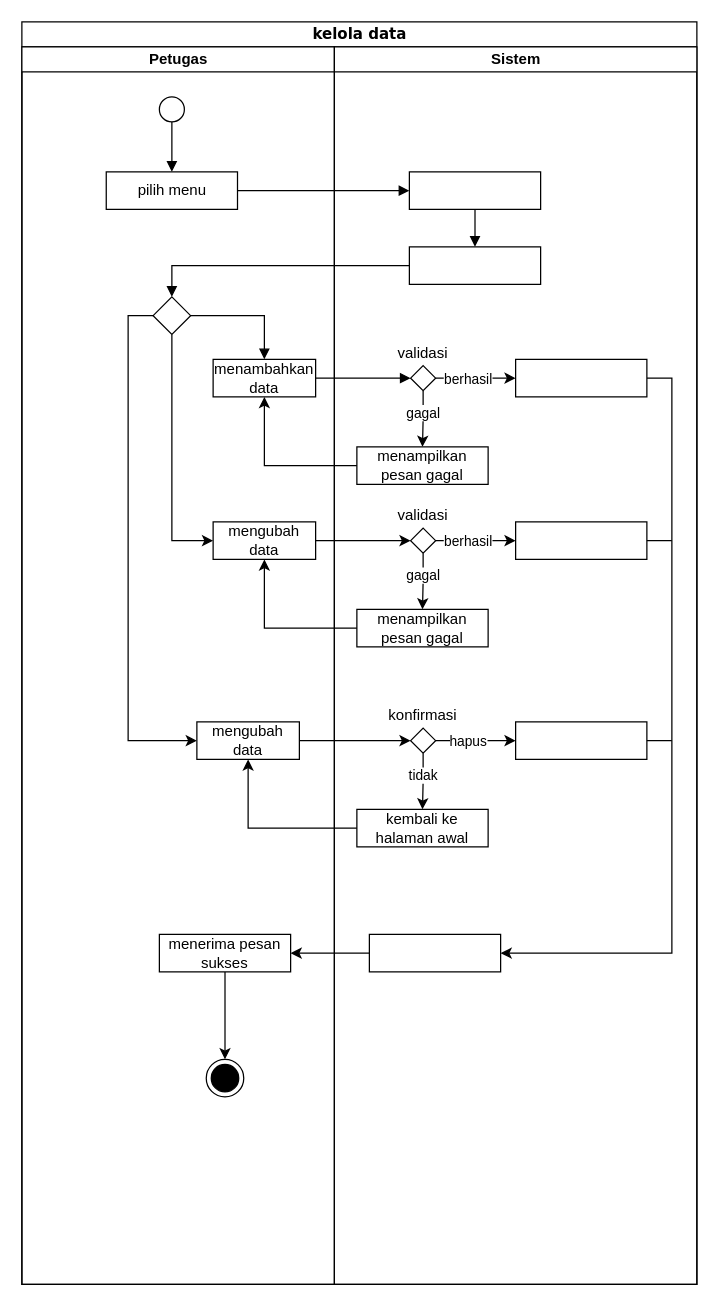
The diagram is 719 pixels wide and 1306 high, and some of its shapes have lost their labels. Here are the shapes that lost their labels. From the top down, the centre of each, then its label:
pixel 474 190: menampilkan halaman menu
pixel 474 265: menampilkan data menu
pixel 580 377: menambahkan data ke database
pixel 580 540: mengubah data di database
pixel 580 740: data terhapus
pixel 434 952: mengirimkan pesan sukses
